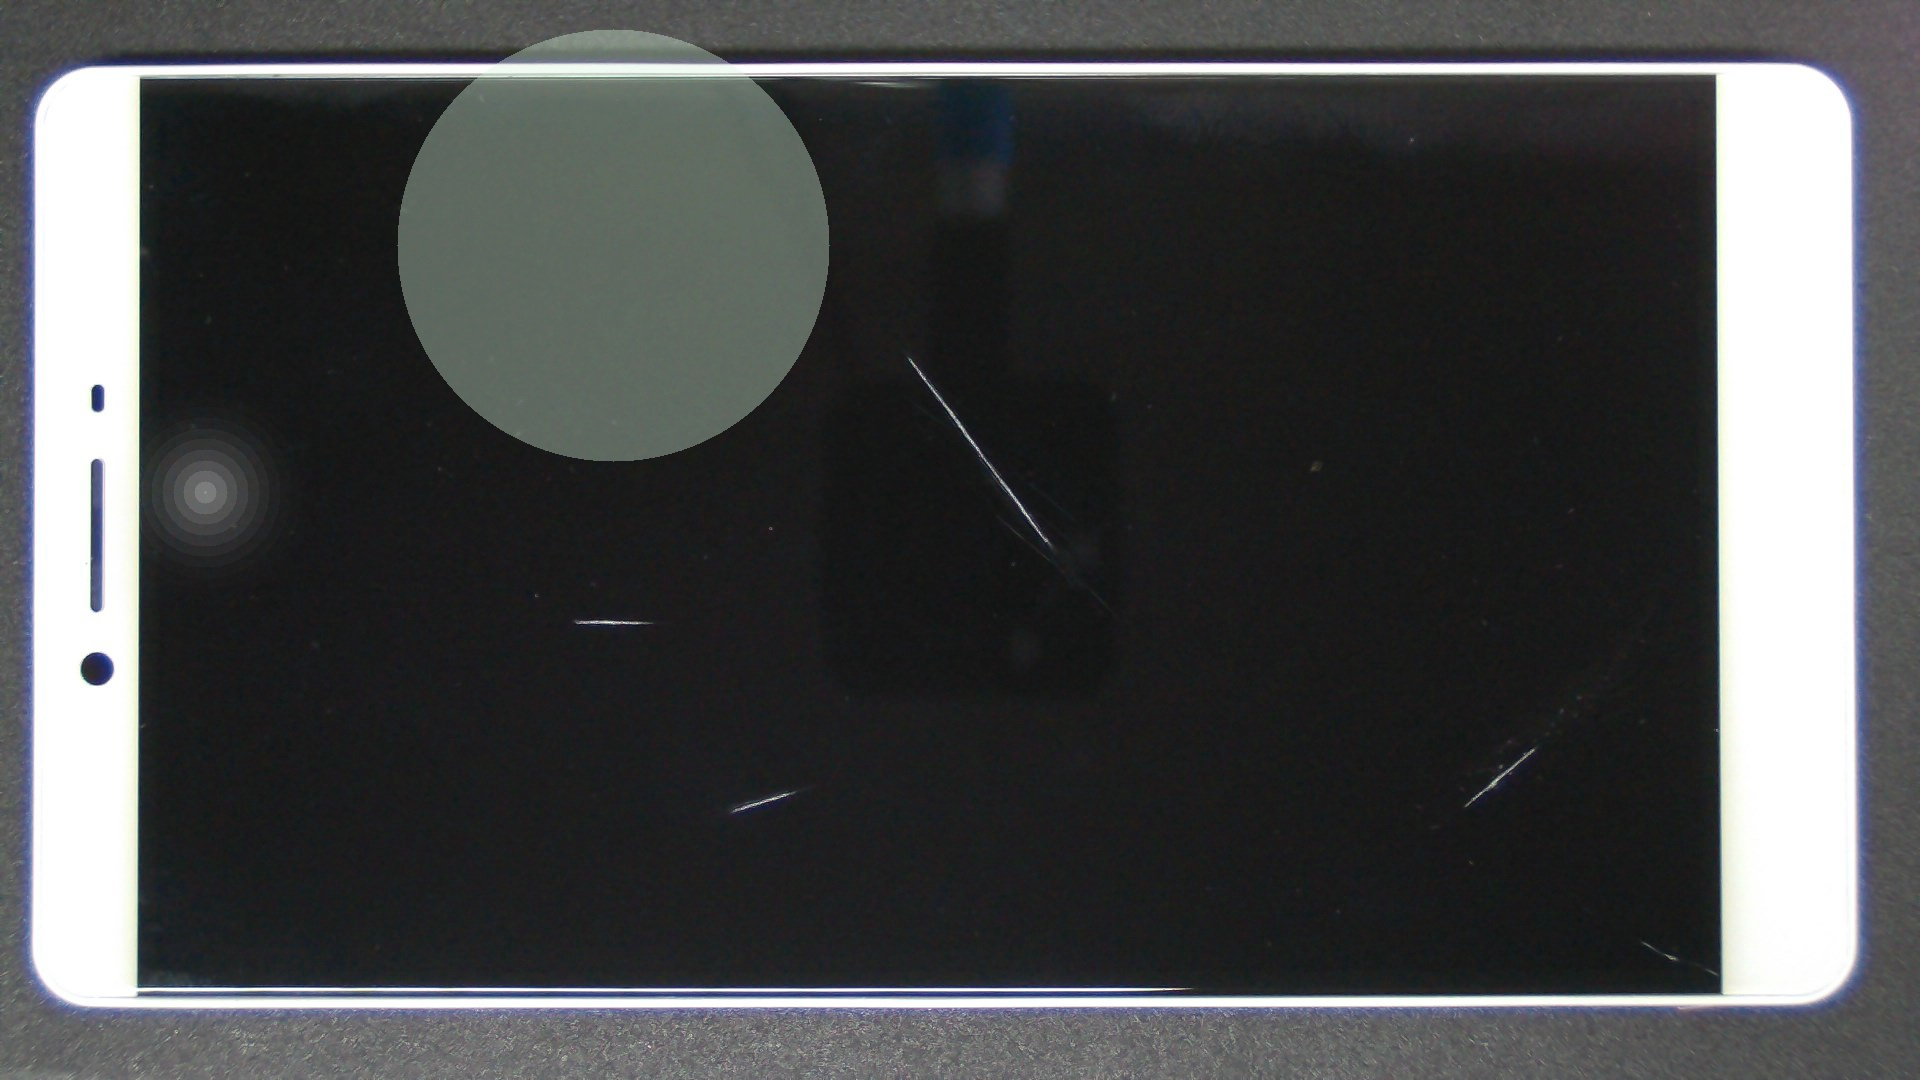oil: (767, 373, 1920, 1080), (820, 469, 1920, 1080), (397, 394, 1188, 1080), (287, 309, 862, 928), (454, 177, 1361, 533)
